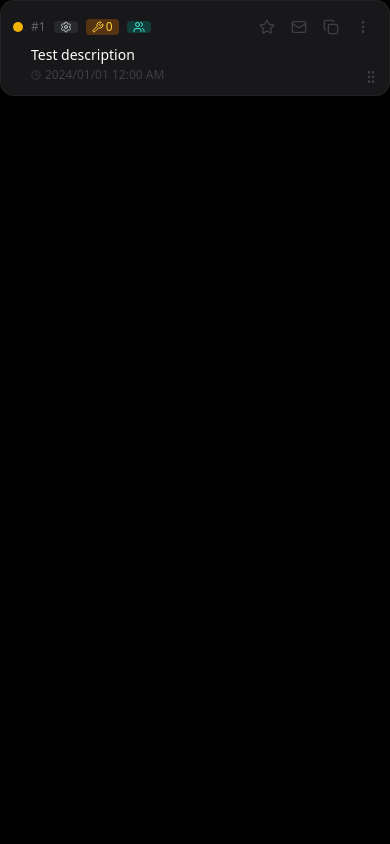
Test case: TaskList › Overflow menu › closes overflow menu on outside click
Click the button titled "More actions" at (363, 27), box [349,13,377,41]
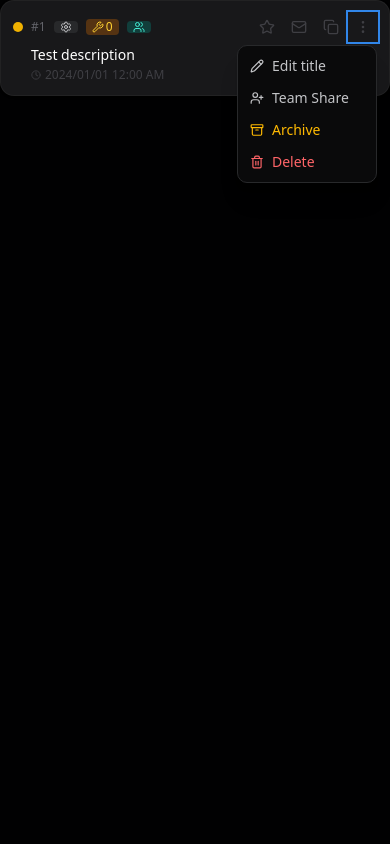
Now the button "Edit title" is shown, box [238,50,376,82]
Note: Click outside
Press the mouse on the element that starts with "Edit title" at (195, 422), box [0,0,389,843]
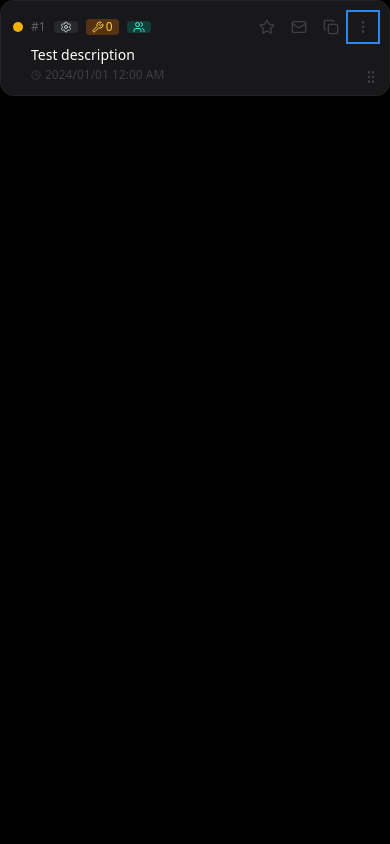
Now the button "Edit title" is gone
